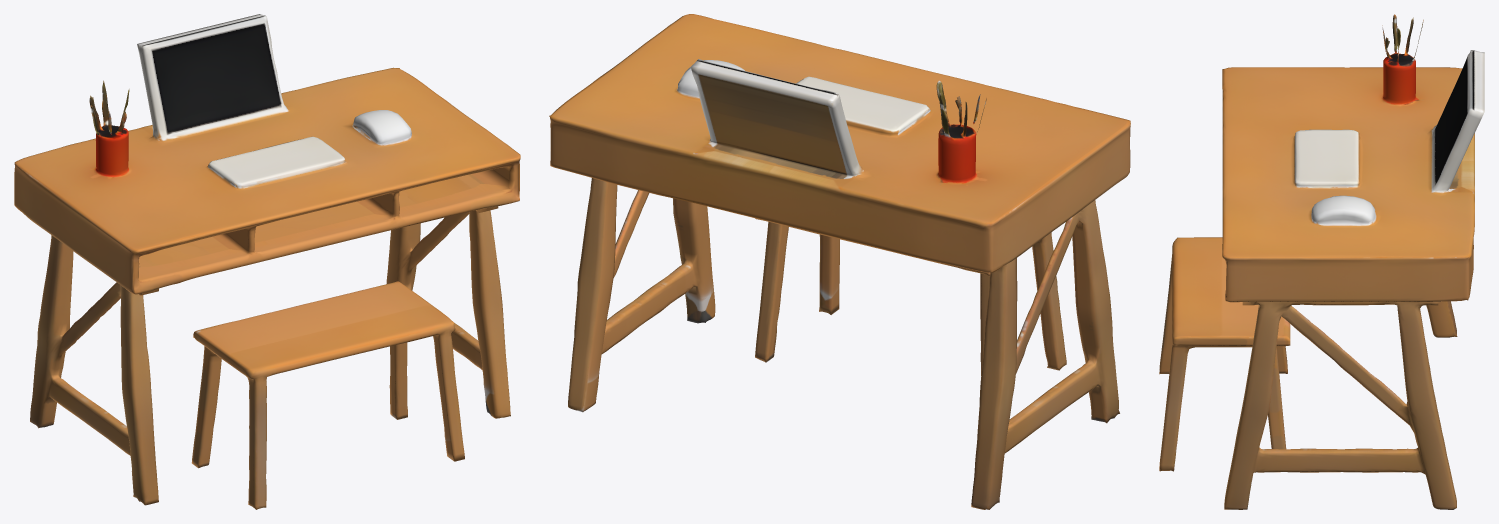
The model's file is 019dac59-7941-7149-91a7-10b53c9cfee3.glb.
3 views of the same model, side by side, from view 1: azimuth 30°, elevation 25°; view 2: azimuth 150°, elevation 25°; view 3: azimuth 270°, elevation 25° (orthographic). The views are drawn at different scales.
Parts seen in each view (by area): view 1: model; view 2: model; view 3: model.
Part boxes in pixels (box(x1,y1,x2,y2)): model: box(14, 14, 520, 509); model: box(549, 14, 1130, 509); model: box(1159, 14, 1484, 509).
Size of the model in its own units: 1.9 by 1.58 by 1.37.
Materials: 1 (1 with a texture image).
